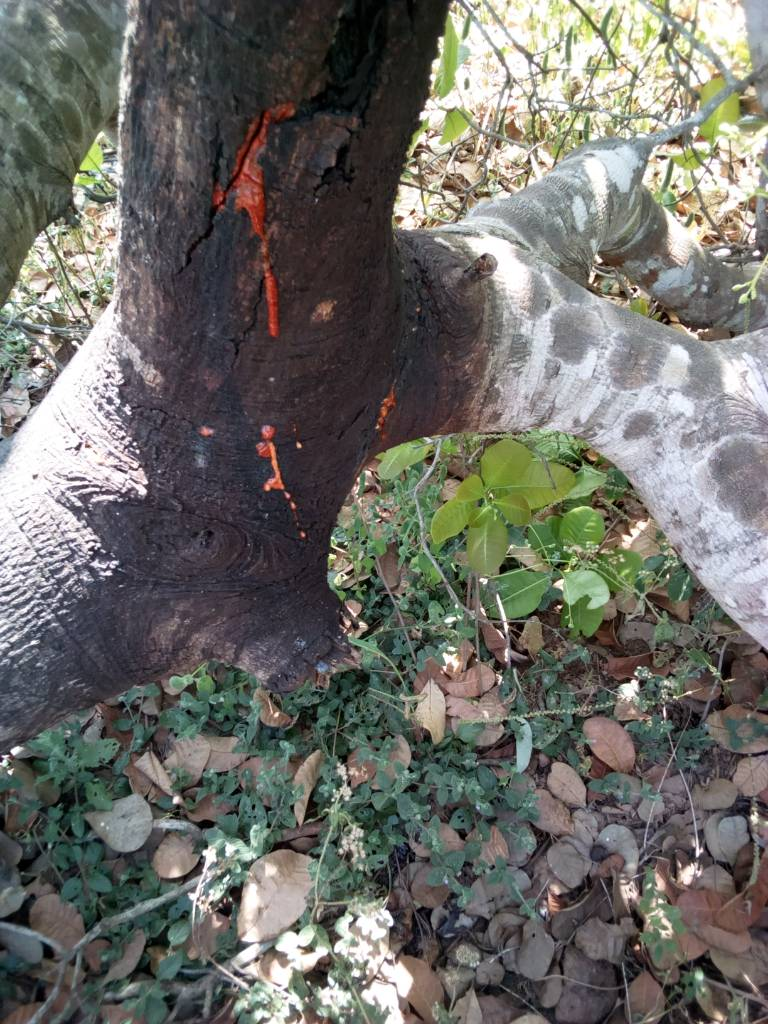Gommose: (152, 5, 440, 588)
